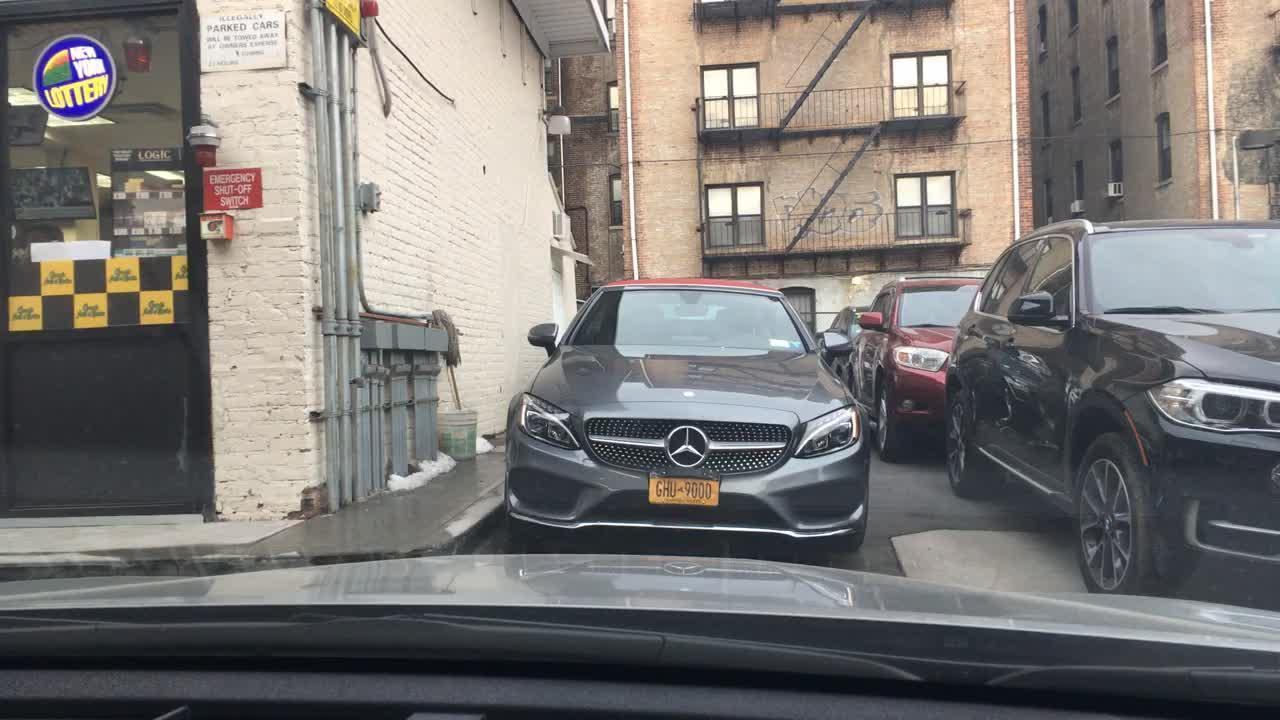Mercedes: (668, 412, 712, 477)
